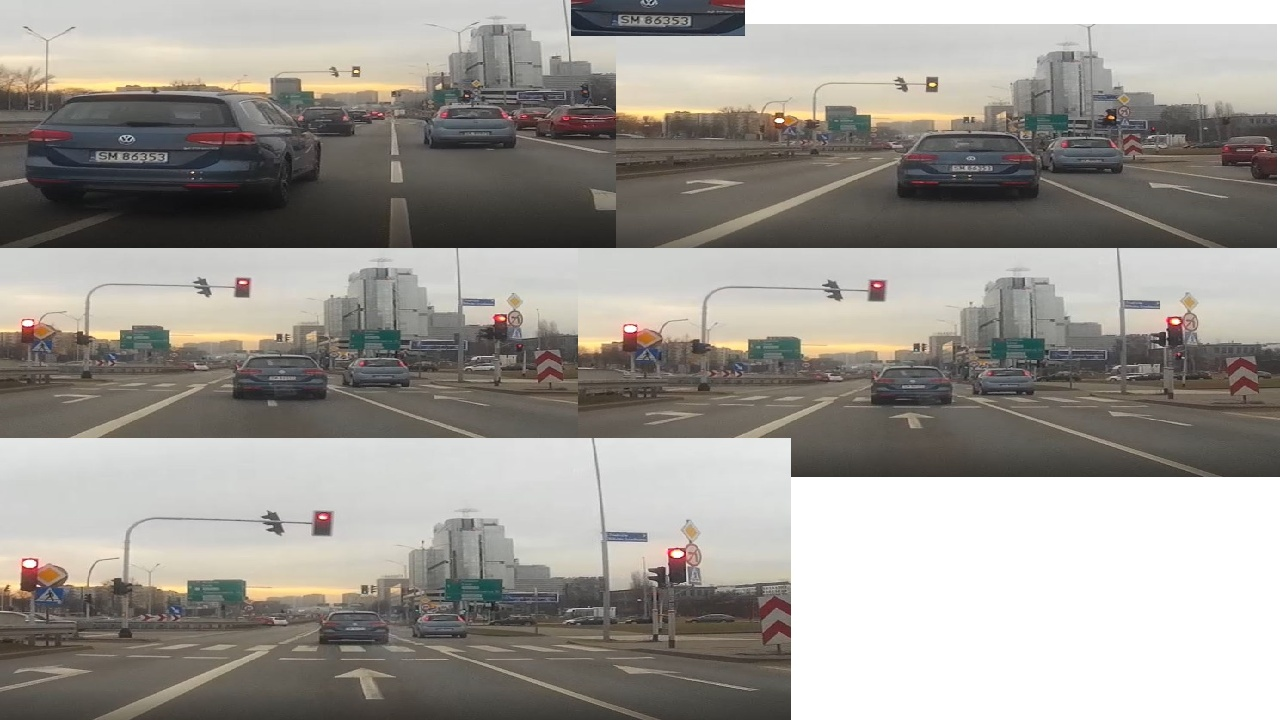B21: (679, 541, 706, 566)
D1: (28, 561, 75, 588), (680, 515, 705, 540)
D6: (29, 585, 66, 607)
